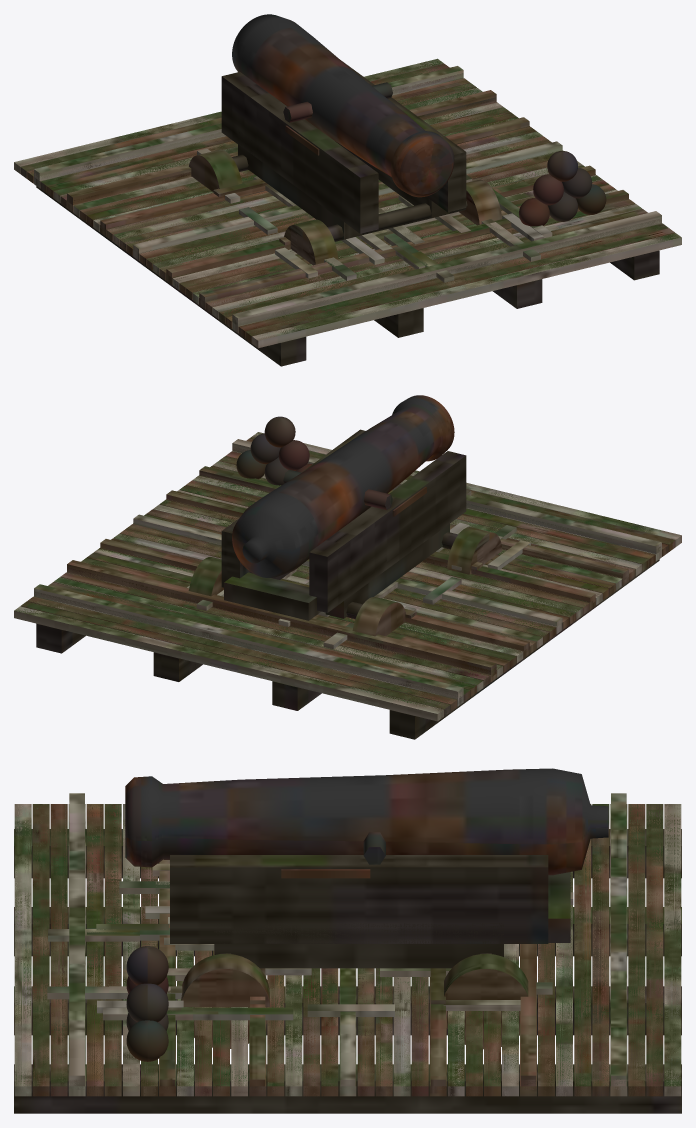
File: starfort_gun_platform_hero.glb
3 views of the same model, one above another, from view 1: azimuth 30°, elevation 25°; view 2: azimuth 150°, elevation 25°; view 3: azimuth 270°, elevation 25° (orthographic). The views are drawn at different scales.
Parts seen in each view (by area): view 1: intact, cracked, carriage, barrel, breached, ammo; view 2: intact, cracked, carriage, barrel, breached, ammo; view 3: intact, cracked, carriage, barrel, breached, ammo.
Boxes of the visible parts, x1,y1,x2,y2 form: intact: (14,58,681,366); cracked: (14,59,680,347); carriage: (189,60,501,265); barrel: (232,14,454,197); breached: (34,66,661,325); ammo: (519,151,606,226); intact: (14,432,681,739); cracked: (14,432,681,720); carriage: (188,429,502,636); barrel: (232,395,454,577); breached: (34,439,661,698); ammo: (236,416,312,485); intact: (14,804,681,1113); cracked: (15,804,680,1096); carriage: (170,855,570,1049); barrel: (125,768,608,875); breached: (69,793,664,1085); ammo: (126,946,168,1061).
Size of what is drawn, in the model's own units: 3 by 1.06 by 3.
Materials: 1 (1 with a texture image).
